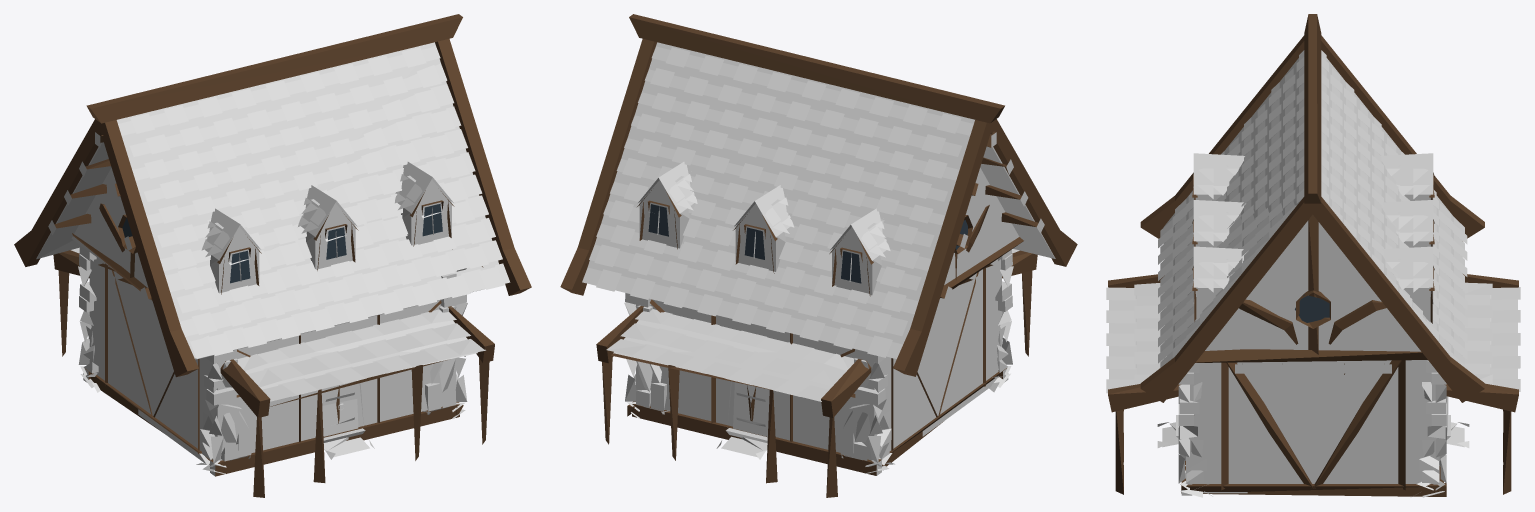
File: mv_inn.glb
3 views of the same model, side by side, from view 1: azimuth 30°, elevation 25°; view 2: azimuth 150°, elevation 25°; view 3: azimuth 270°, elevation 25° (orthographic).
Visible parts, largest first — view 1: S_Inn; view 2: S_Inn; view 3: S_Inn.
Boxes of the visible parts, x1,y1,x2,y2 form: S_Inn: (14, 14, 531, 497); S_Inn: (560, 14, 1077, 497); S_Inn: (1106, 14, 1520, 497).
Bounding box in the file's own units: 4.03 × 3.49 × 3.91.
